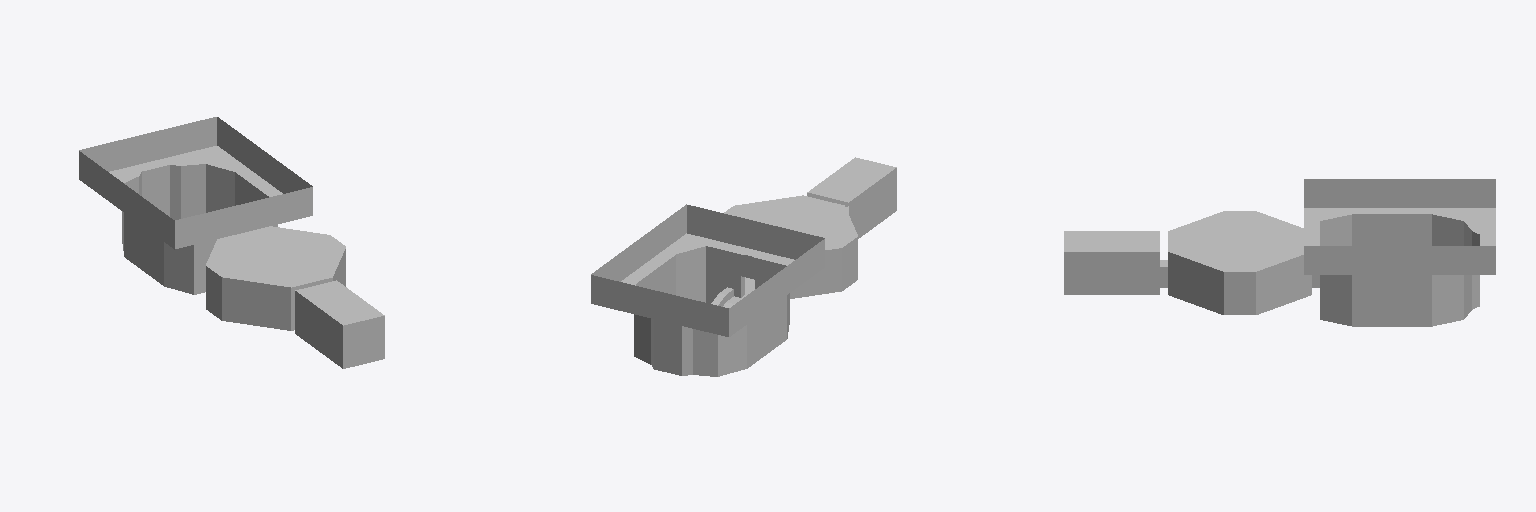
Rendered from floor1level1rev1.obj.
3 renders of one model, left to right at view 1: azimuth 30°, elevation 25°; view 2: azimuth 150°, elevation 25°; view 3: azimuth 270°, elevation 25°, orthographic.
Parts seen in each view (by area): view 1: mesh_68_Collection_materials/courtyardpillars.vmat.007#SFX_2, mesh_68_Collection_materials/insidewalls.vmat#SFX_2#WALLPROPERTY, mesh_97_Collection_materials/courtyardbackroundtrees.vmat.003#No, mesh_70_Collection_materials/insidewalls.vmat.002#SFX_2#WALLPROP, mesh_95_Collection_materials/courtyardbackroundtrees.vmat.002#No, mesh_89_Collection_materials/courtyardbackroundtrees.vmat#NoColl, mesh_50_Collection_materials/courtyardwalls.vmat.005#SFX_2#WALLP, mesh_54_Collection_materials/courtyardwalls.vmat.006#SFX_2#WALLP, mesh_90_Collection_materials/courtyardbackroundtrees.vmat.001#No, mesh_70_Collection_materials/courtyardpillars.vmat.009#SFX_2, mesh_49_Collection_materials/courtyardwalls.vmat.004#SFX_2#WALLP, mesh_55_Collection_materials/courtyardwalls.vmat.007#SFX_2#WALLP (+2 smaller); view 2: mesh_95_Collection_materials/courtyardbackroundtrees.vmat.002#No, mesh_68_Collection_materials/courtyardpillars.vmat.007#SFX_2, mesh_97_Collection_materials/courtyardbackroundtrees.vmat.003#No, mesh_50_Collection_materials/courtyardwalls.vmat.005#SFX_2#WALLP, mesh_89_Collection_materials/courtyardbackroundtrees.vmat#NoColl, mesh_54_Collection_materials/courtyardwalls.vmat.006#SFX_2#WALLP, mesh_90_Collection_materials/courtyardbackroundtrees.vmat.001#No, mesh_70_Collection_materials/insidewalls.vmat.002#SFX_2#WALLPROP, mesh_49_Collection_materials/courtyardwalls.vmat.004#SFX_2#WALLP, mesh_68_Collection_materials/insidewalls.vmat#SFX_2#WALLPROPERTY, mesh_70_Collection_materials/courtyardpillars.vmat.009#SFX_2, mesh_55_Collection_materials/courtyardvariedwhitebricks.vmat.002 (+2 smaller); view 3: mesh_54_Collection_materials/courtyardwalls.vmat.006#SFX_2#WALLP, mesh_68_Collection_materials/courtyardpillars.vmat.007#SFX_2, mesh_68_Collection_materials/insidewalls.vmat#SFX_2#WALLPROPERTY, mesh_89_Collection_materials/courtyardbackroundtrees.vmat#NoColl, mesh_90_Collection_materials/courtyardbackroundtrees.vmat.001#No, mesh_70_Collection_materials/insidewalls.vmat.002#SFX_2#WALLPROP, mesh_50_Collection_materials/courtyardwalls.vmat.005#SFX_2#WALLP, mesh_55_Collection_materials/courtyardwalls.vmat.007#SFX_2#WALLP, mesh_70_Collection_materials/courtyardpillars.vmat.009#SFX_2, mesh_81_Collection_materials/courtyardgrass.vmat.008#NoCollision, mesh_84_Collection_materials/courtyardgrass.vmat.010#NoCollision.
Boxes of the visible parts, x1,y1,x2,y2 form: mesh_68_Collection_materials/courtyardpillars.vmat.007#SFX_2: [206, 226, 345, 287]; mesh_68_Collection_materials/insidewalls.vmat#SFX_2#WALLPROPERTY: [206, 249, 345, 330]; mesh_97_Collection_materials/courtyardbackroundtrees.vmat.003#No: [175, 187, 312, 248]; mesh_70_Collection_materials/insidewalls.vmat.002#SFX_2#WALLPROP: [295, 291, 384, 368]; mesh_95_Collection_materials/courtyardbackroundtrees.vmat.002#No: [79, 117, 216, 171]; mesh_89_Collection_materials/courtyardbackroundtrees.vmat#NoColl: [79, 151, 174, 249]; mesh_50_Collection_materials/courtyardwalls.vmat.005#SFX_2#WALLP: [122, 164, 234, 250]; mesh_54_Collection_materials/courtyardwalls.vmat.006#SFX_2#WALLP: [124, 172, 268, 285]; mesh_90_Collection_materials/courtyardbackroundtrees.vmat.001#No: [217, 117, 312, 193]; mesh_70_Collection_materials/courtyardpillars.vmat.009#SFX_2: [295, 280, 384, 325]; mesh_49_Collection_materials/courtyardwalls.vmat.004#SFX_2#WALLP: [139, 165, 180, 219]; mesh_55_Collection_materials/courtyardwalls.vmat.007#SFX_2#WALLP: [164, 242, 193, 294]; mesh_95_Collection_materials/courtyardbackroundtrees.vmat.002#No: [591, 275, 728, 336]; mesh_68_Collection_materials/courtyardpillars.vmat.007#SFX_2: [724, 195, 857, 257]; mesh_97_Collection_materials/courtyardbackroundtrees.vmat.003#No: [687, 205, 824, 259]; mesh_50_Collection_materials/courtyardwalls.vmat.005#SFX_2#WALLP: [634, 314, 746, 376]; mesh_89_Collection_materials/courtyardbackroundtrees.vmat#NoColl: [729, 239, 824, 336]; mesh_54_Collection_materials/courtyardwalls.vmat.006#SFX_2#WALLP: [636, 255, 786, 368]; mesh_90_Collection_materials/courtyardbackroundtrees.vmat.001#No: [591, 204, 686, 281]; mesh_70_Collection_materials/insidewalls.vmat.002#SFX_2#WALLPROP: [807, 168, 896, 238]; mesh_49_Collection_materials/courtyardwalls.vmat.004#SFX_2#WALLP: [651, 319, 692, 375]; mesh_68_Collection_materials/insidewalls.vmat#SFX_2#WALLPROPERTY: [790, 237, 857, 298]; mesh_70_Collection_materials/courtyardpillars.vmat.009#SFX_2: [807, 157, 896, 202]; mesh_55_Collection_materials/courtyardvariedwhitebricks.vmat.002: [713, 248, 782, 300]; mesh_54_Collection_materials/courtyardwalls.vmat.006#SFX_2#WALLP: [1352, 214, 1431, 326]; mesh_68_Collection_materials/courtyardpillars.vmat.007#SFX_2: [1168, 211, 1311, 271]; mesh_68_Collection_materials/insidewalls.vmat#SFX_2#WALLPROPERTY: [1168, 252, 1311, 314]; mesh_89_Collection_materials/courtyardbackroundtrees.vmat#NoColl: [1304, 179, 1495, 207]; mesh_90_Collection_materials/courtyardbackroundtrees.vmat.001#No: [1304, 246, 1495, 274]; mesh_70_Collection_materials/insidewalls.vmat.002#SFX_2#WALLPROP: [1064, 252, 1159, 294]; mesh_50_Collection_materials/courtyardwalls.vmat.005#SFX_2#WALLP: [1432, 214, 1471, 326]; mesh_55_Collection_materials/courtyardwalls.vmat.007#SFX_2#WALLP: [1320, 215, 1351, 325]; mesh_70_Collection_materials/courtyardpillars.vmat.009#SFX_2: [1064, 231, 1159, 251]; mesh_81_Collection_materials/courtyardgrass.vmat.008#NoCollision: [1320, 208, 1479, 213]; mesh_84_Collection_materials/courtyardgrass.vmat.010#NoCollision: [1480, 208, 1495, 245].
Bounding box in the file's own units: 12.8 × 7.68 × 34.56.